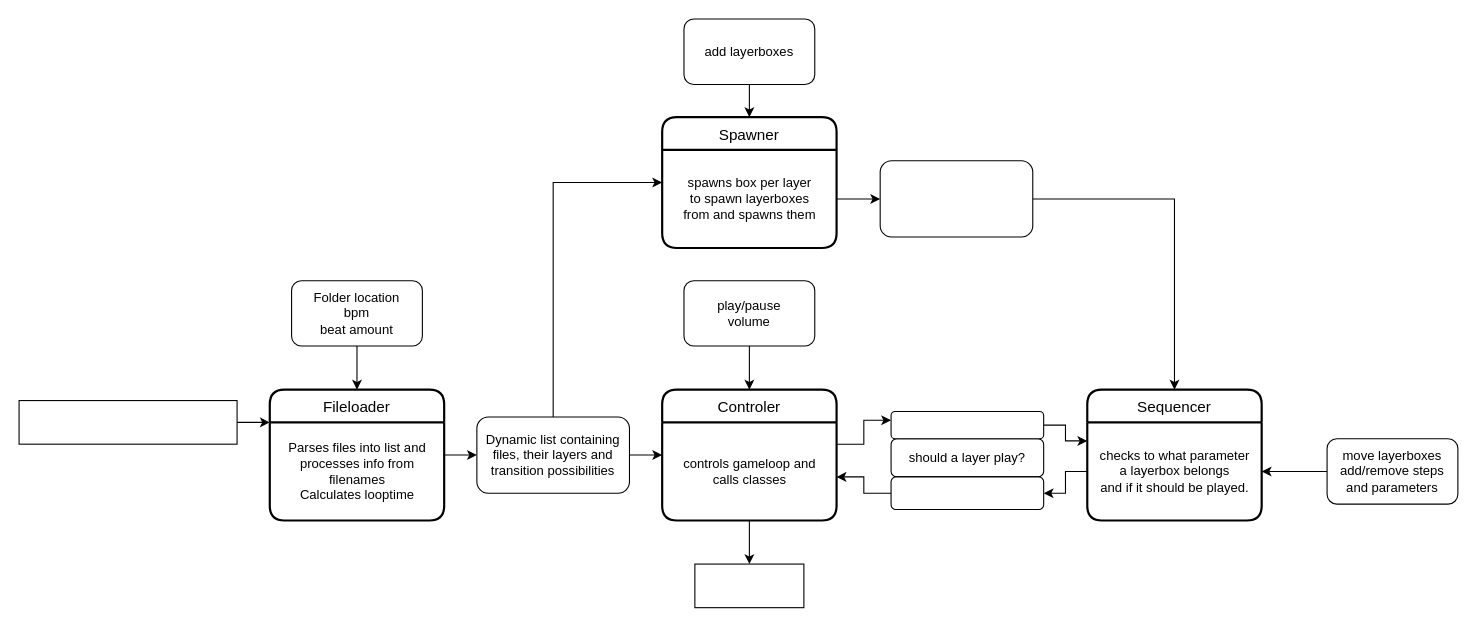
The diagram is 1477 pixels wide and 627 high, and some of its shapes have lost their labels. The shapes that lost their labels are listed below. From the top down, each one's centre as x and y in pixels, then its label:
the point at 956,198: Layerboxes containing layernumber and duplicatenumber
the point at 127,421: Folder audio files
the point at 967,424: Ask
the point at 967,493: Awnser
the point at 749,585: Audio
